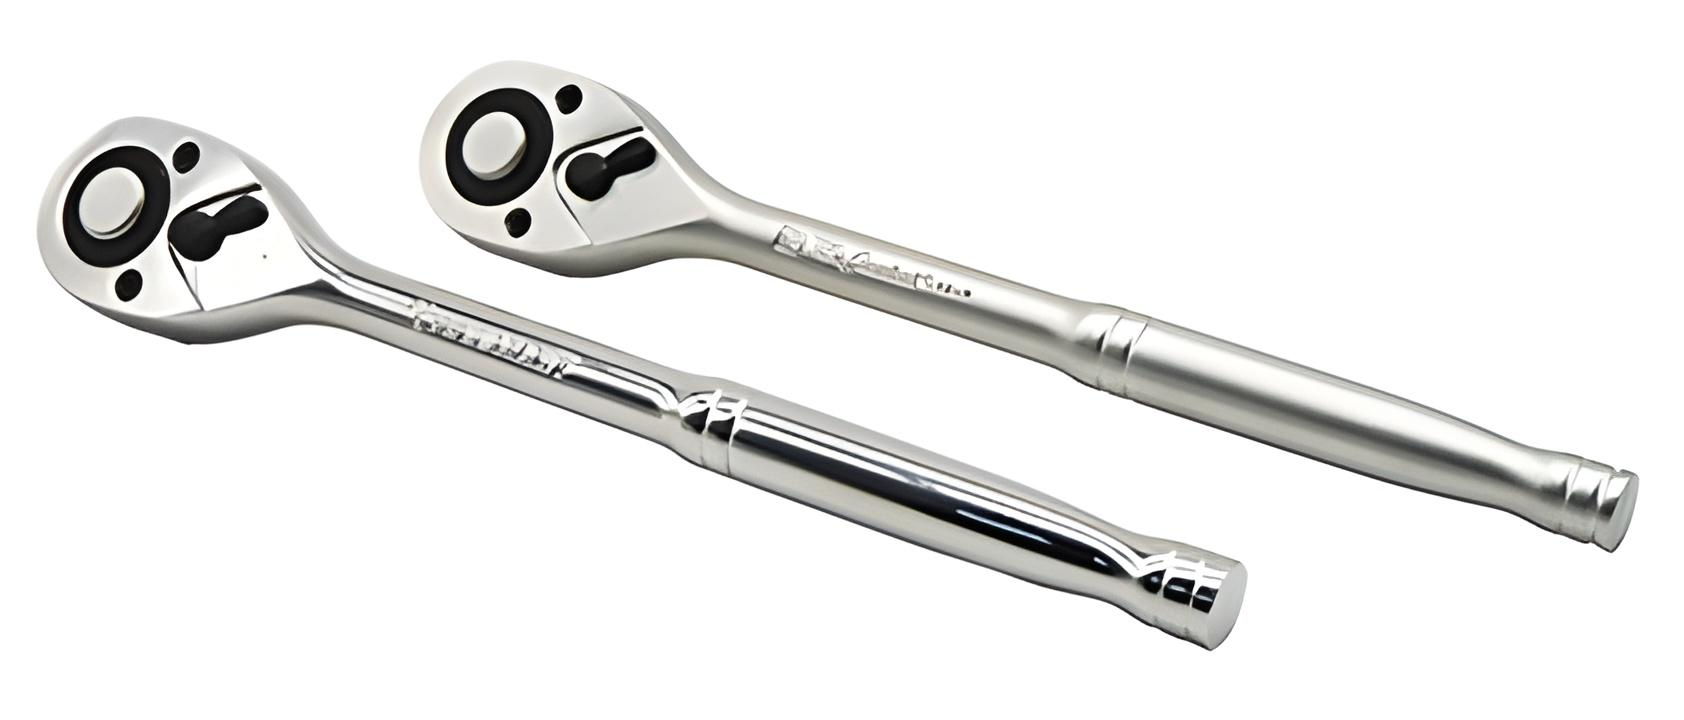Tool: (37, 98, 342, 364), (411, 49, 707, 282)
